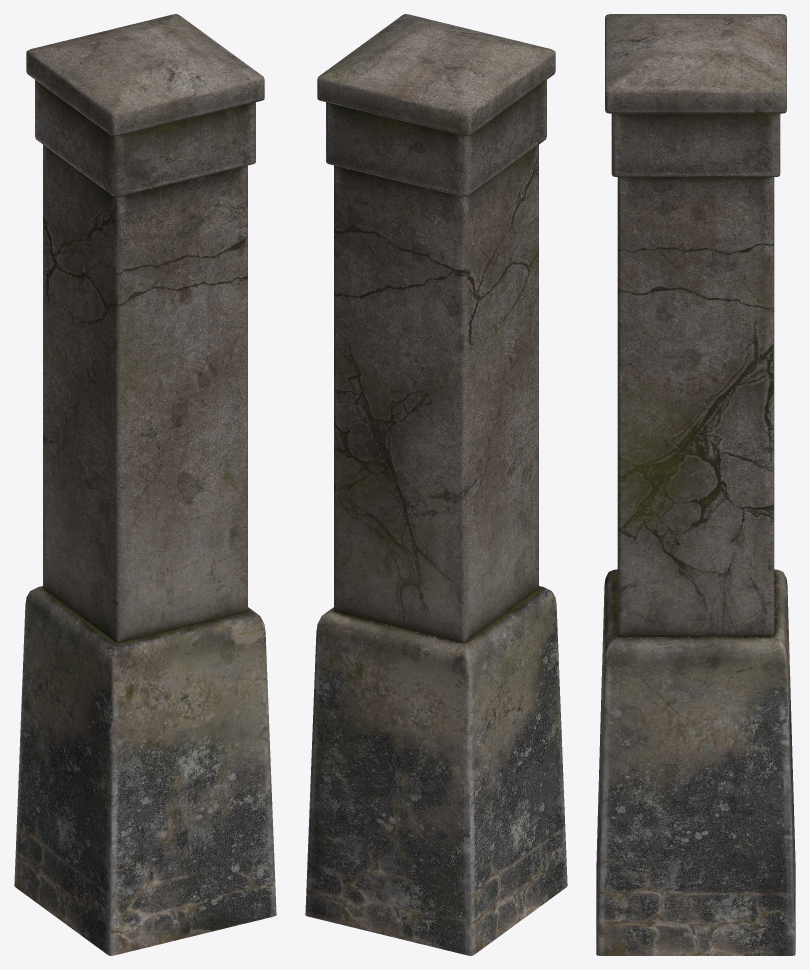
The model's file is SM_fence_21.fbx.
3 renders of one model, left to right at view 1: azimuth 30°, elevation 25°; view 2: azimuth 150°, elevation 25°; view 3: azimuth 270°, elevation 25°, orthographic. The views are drawn at different scales.
Parts seen in each view (by area): view 1: SM_fence_21; view 2: SM_fence_21; view 3: SM_fence_21.
Part boxes in pixels (x1,y1,x2,y2): SM_fence_21: (14, 14, 276, 955); SM_fence_21: (305, 14, 567, 955); SM_fence_21: (596, 14, 795, 955).
Size of the model in its own units: 64.55 by 313 by 64.55.
